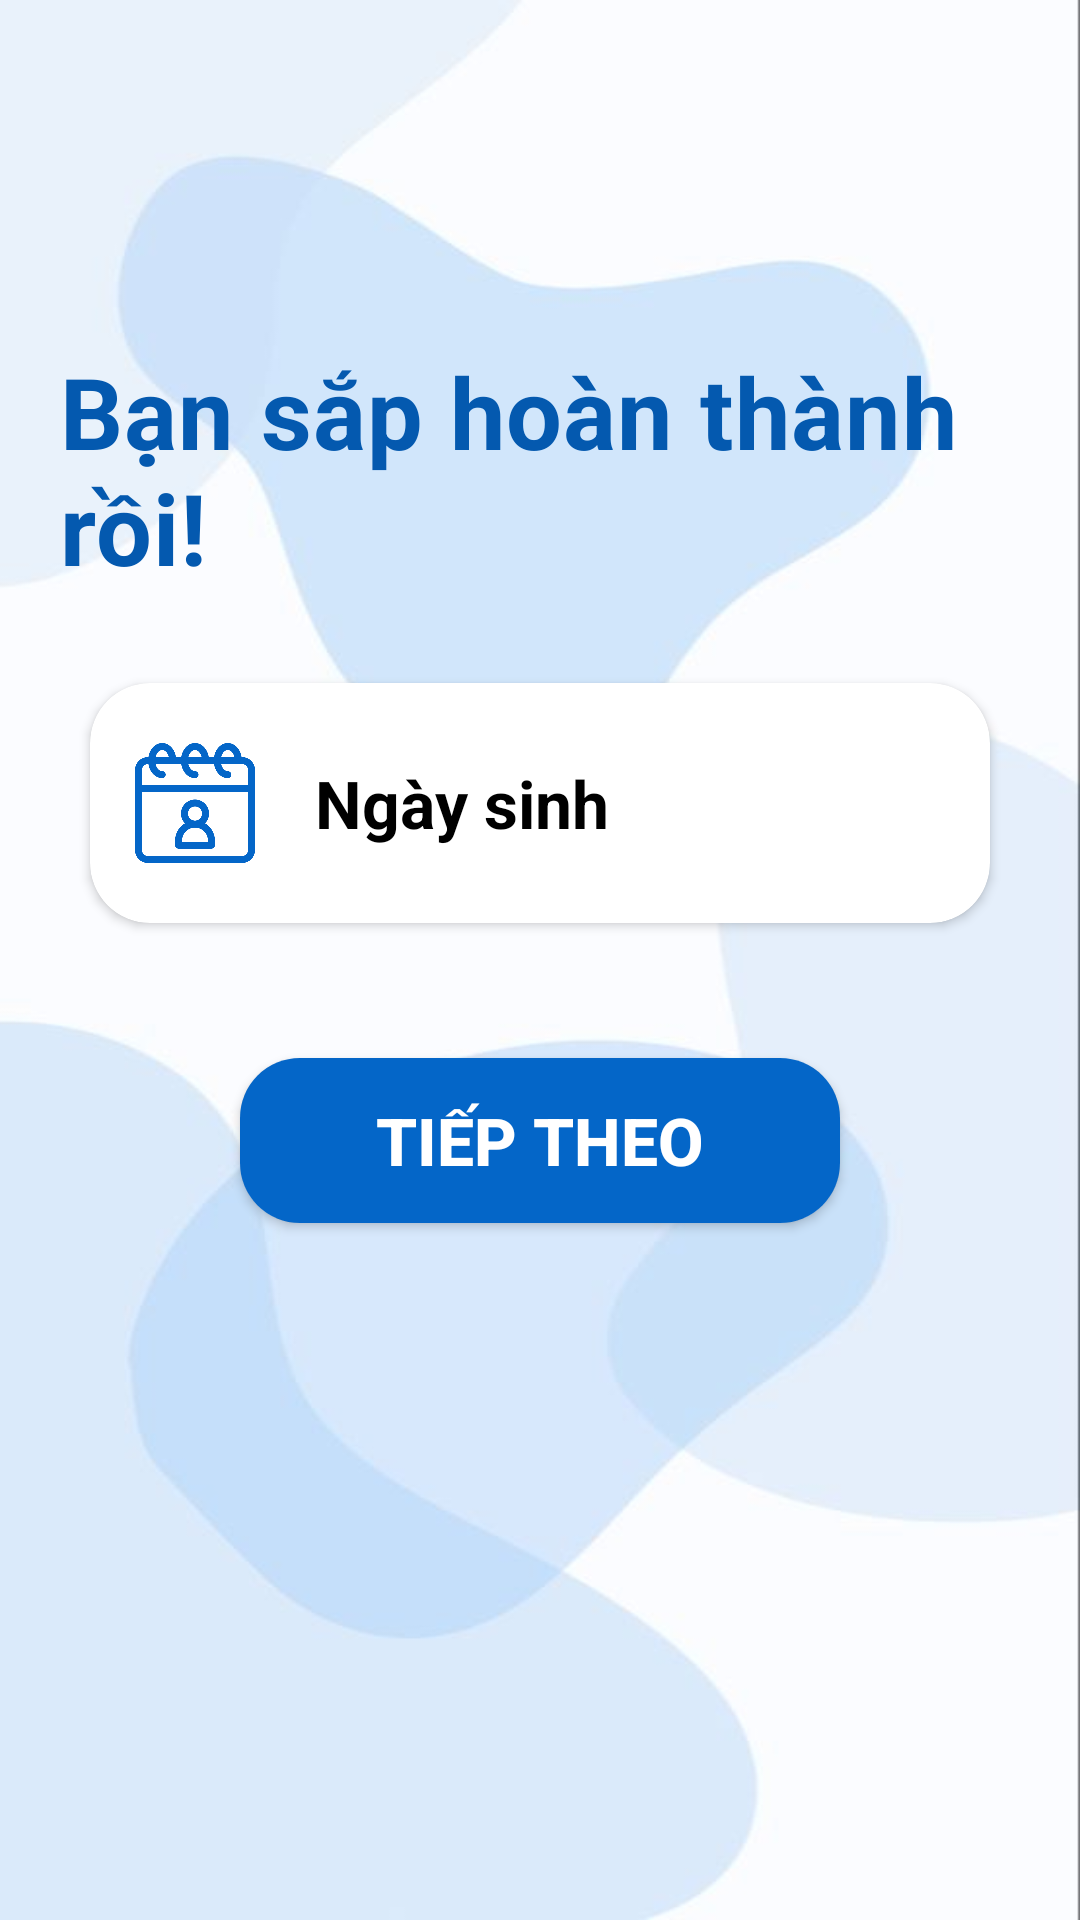

Icons on this 1080 × 1920 Android screen, each with its box as [x1=x1, y1=y1, x2=x2, y2=y2]:
bday nhi: [x1=135, y1=743, x2=255, y2=863]
